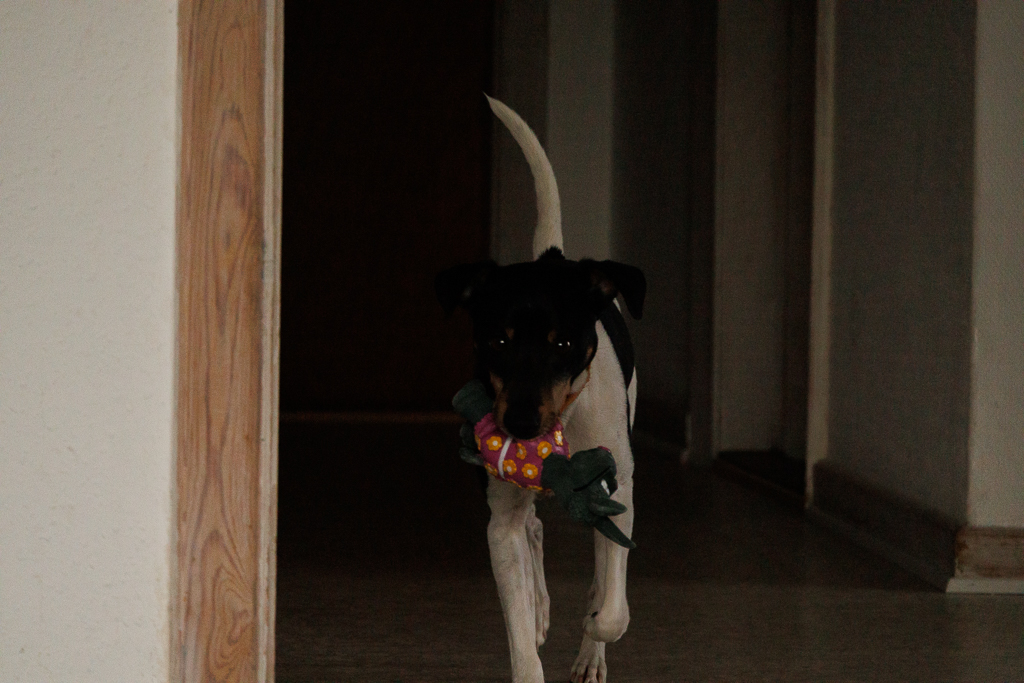Dog: (419, 77, 662, 683)
Humanoid: (433, 366, 644, 556)
